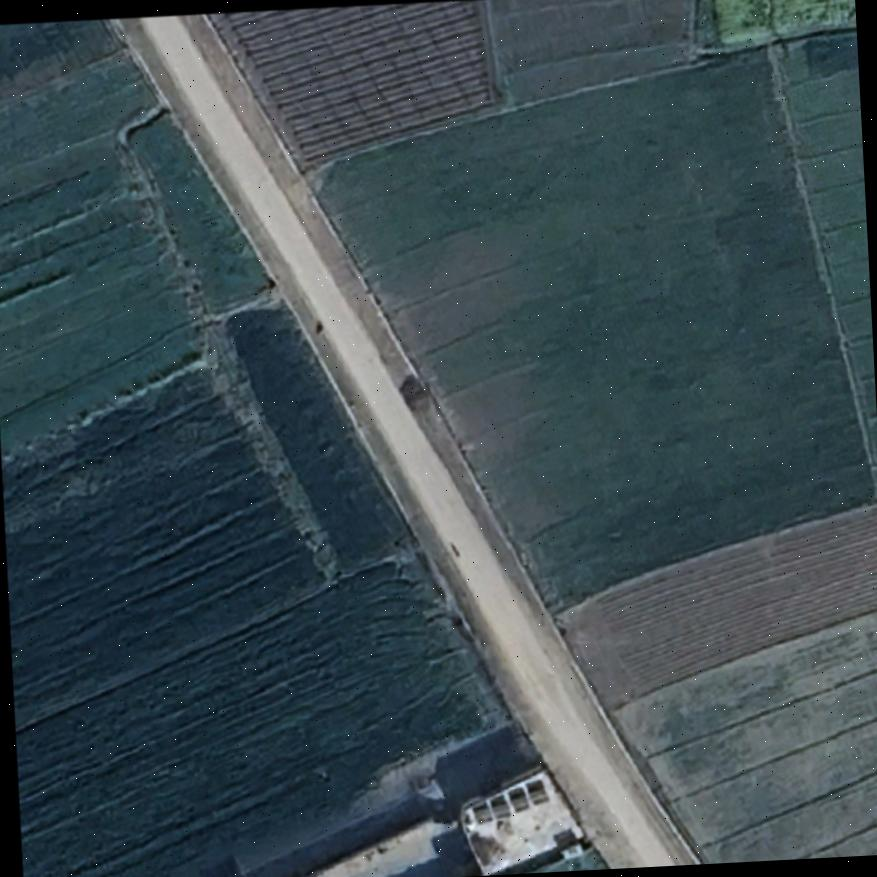Solarpanel: (524, 778, 551, 807), (504, 785, 531, 814), (469, 799, 493, 824)
